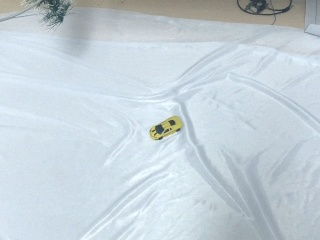toy_car: (149, 116, 182, 140)
